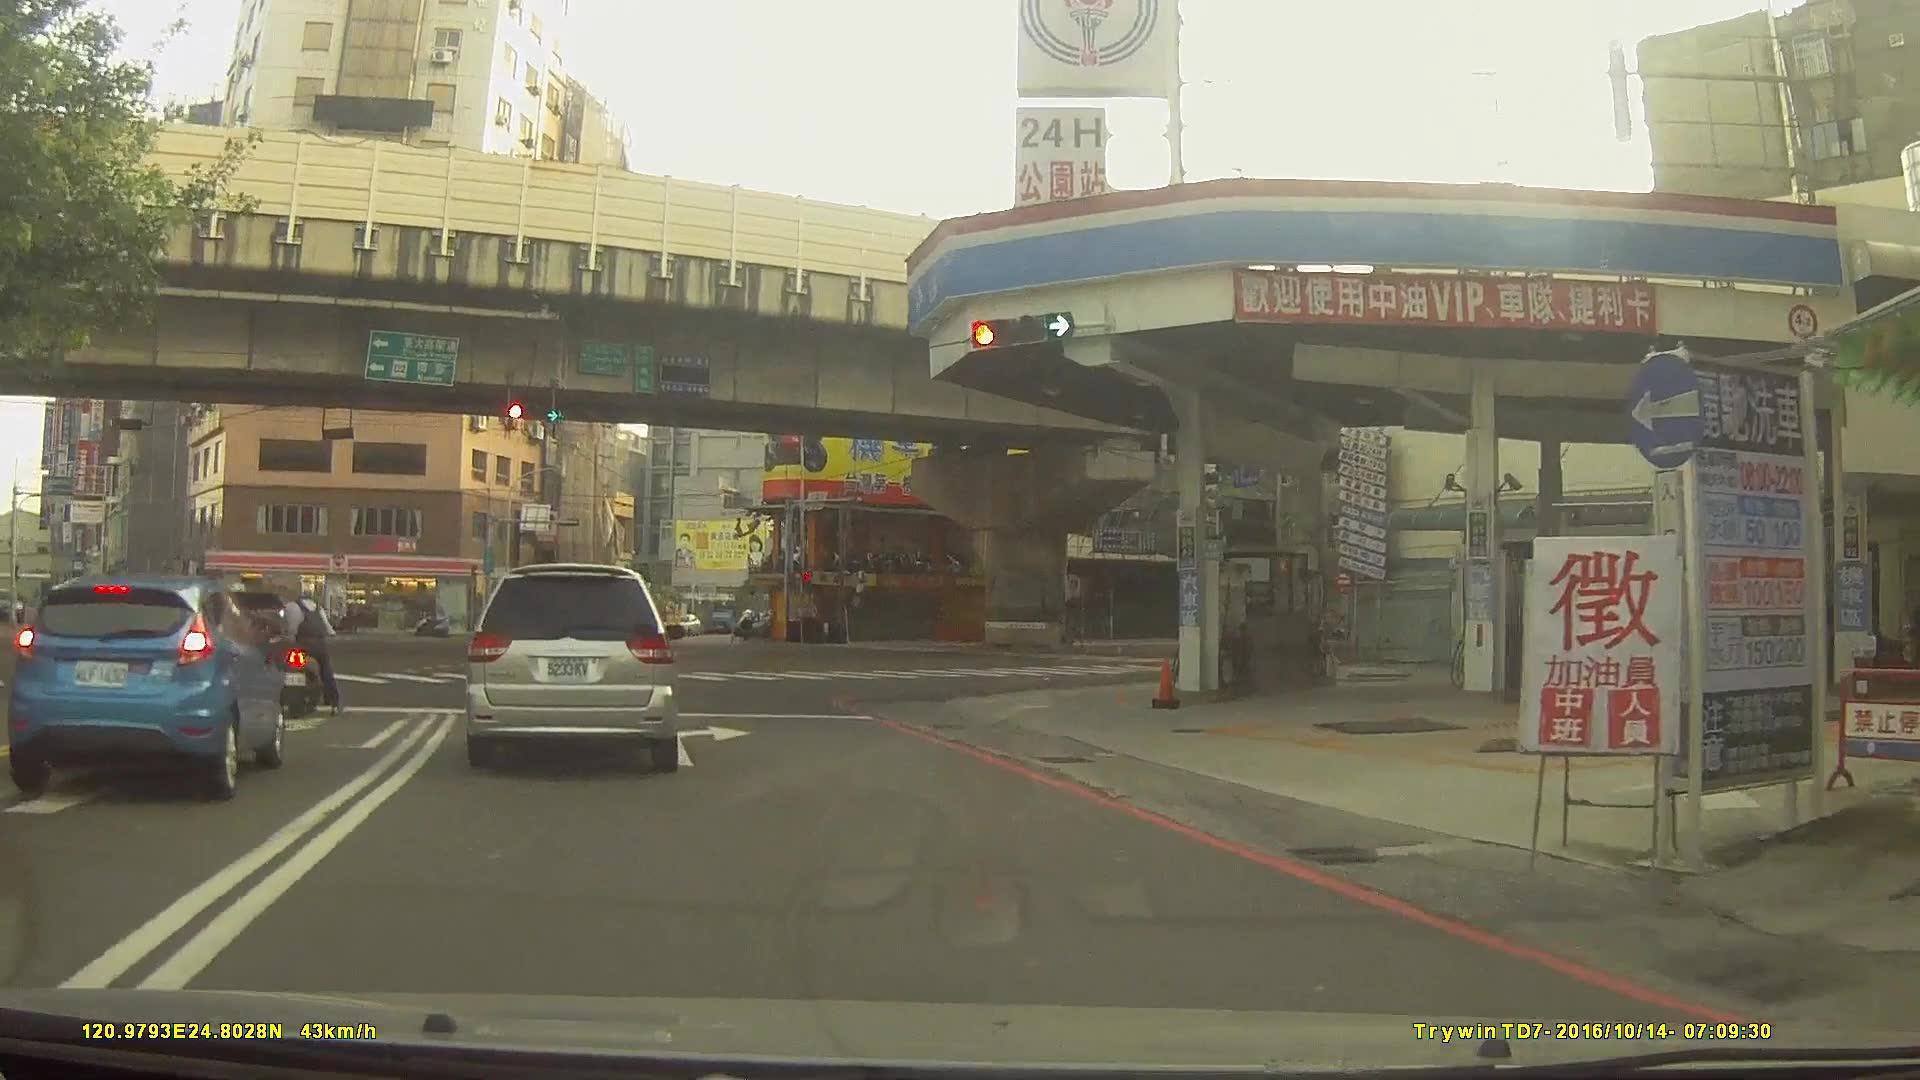rider: (279, 577, 342, 725), (185, 578, 243, 711)
vehicle: (8, 567, 286, 799), (462, 560, 681, 771), (141, 586, 285, 640), (543, 606, 605, 633)
